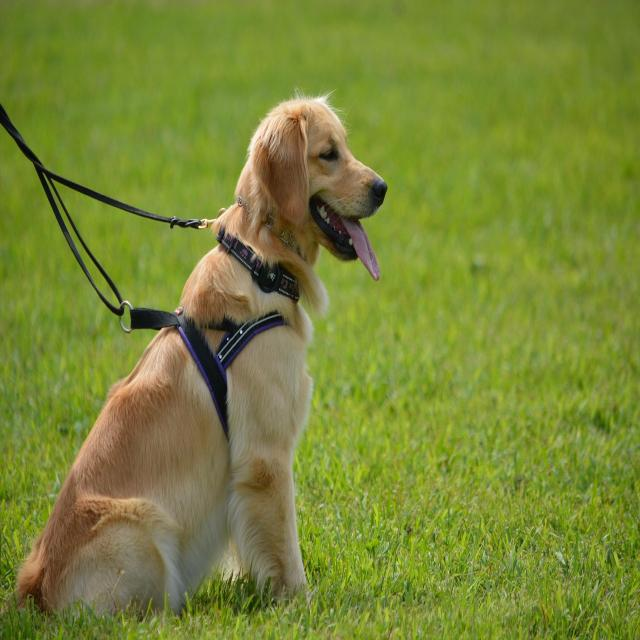dog: (15, 97, 389, 622)
